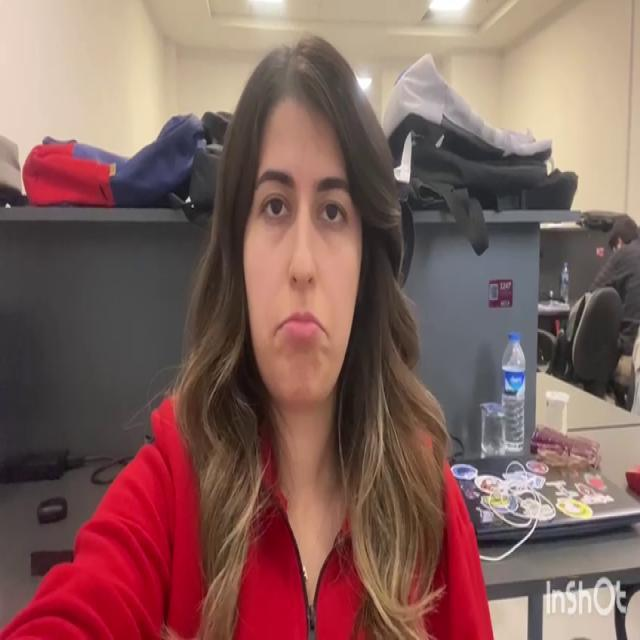sad: (237, 123, 369, 399)
